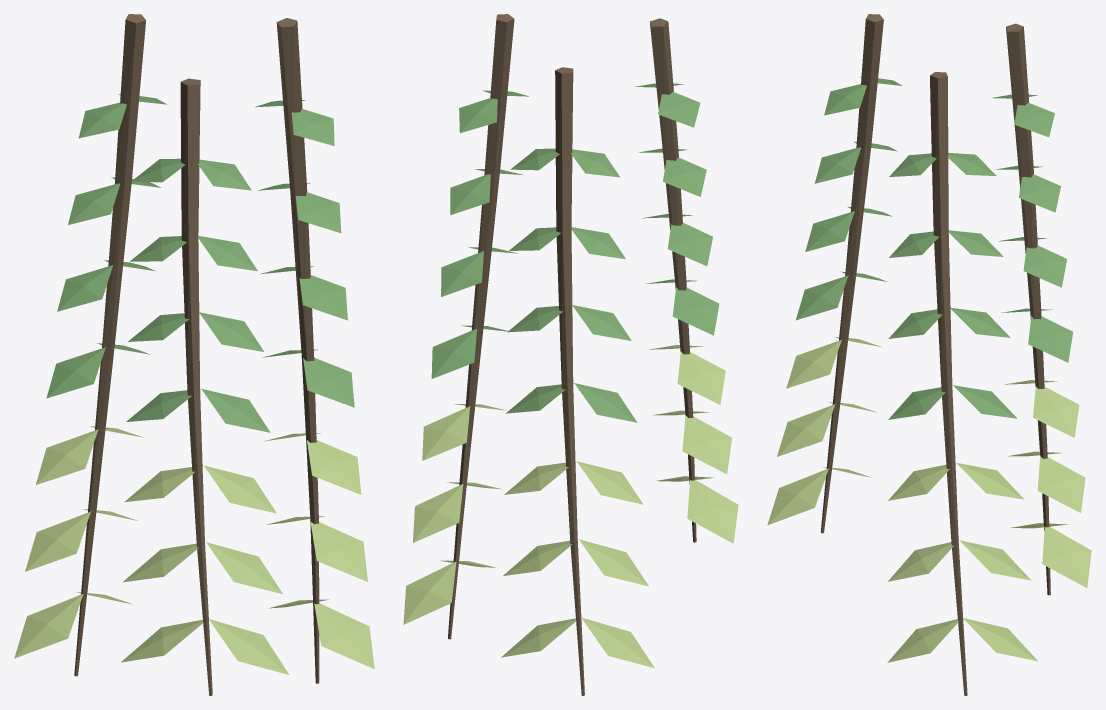
The model's file is vine_v03.glb.
3 renders of one model, left to right at view 1: azimuth 30°, elevation 25°; view 2: azimuth 150°, elevation 25°; view 3: azimuth 270°, elevation 25°, orthographic. The views are drawn at different scales.
Visible parts, largest first — view 1: Wildwuchs_bark_nocol, Wildwuchs_tip_nocol, Wildwuchs_green_nocol; view 2: Wildwuchs_tip_nocol, Wildwuchs_bark_nocol, Wildwuchs_green_nocol; view 3: Wildwuchs_bark_nocol, Wildwuchs_tip_nocol, Wildwuchs_green_nocol.
Part boxes in pixels (x1,y1,x2,y2): Wildwuchs_bark_nocol: [74, 14, 319, 695]; Wildwuchs_tip_nocol: [14, 426, 374, 674]; Wildwuchs_green_nocol: [46, 94, 354, 432]; Wildwuchs_tip_nocol: [403, 345, 738, 668]; Wildwuchs_bark_nocol: [448, 14, 696, 695]; Wildwuchs_green_nocol: [431, 83, 719, 422]; Wildwuchs_bark_nocol: [821, 14, 1050, 695]; Wildwuchs_tip_nocol: [767, 336, 1091, 662]; Wildwuchs_green_nocol: [796, 76, 1073, 419].
Size of the model in its own units: 2.04 by 4.49 by 2.19.
